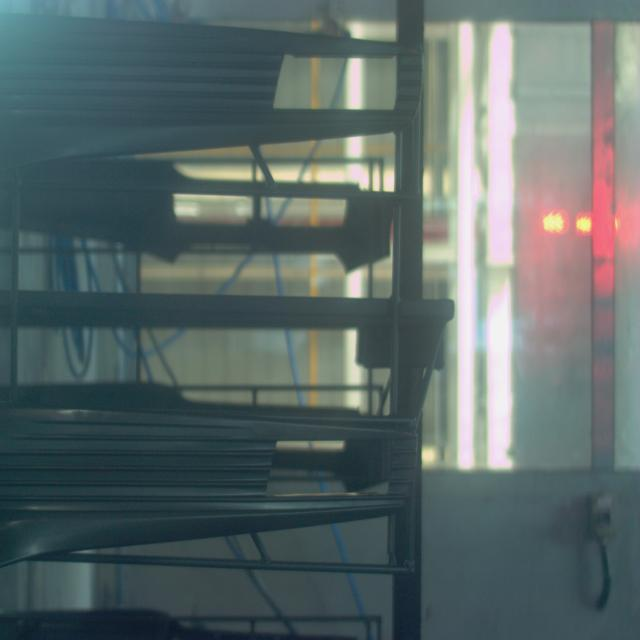Non_primered: (0, 15, 424, 183), (0, 408, 422, 572)
